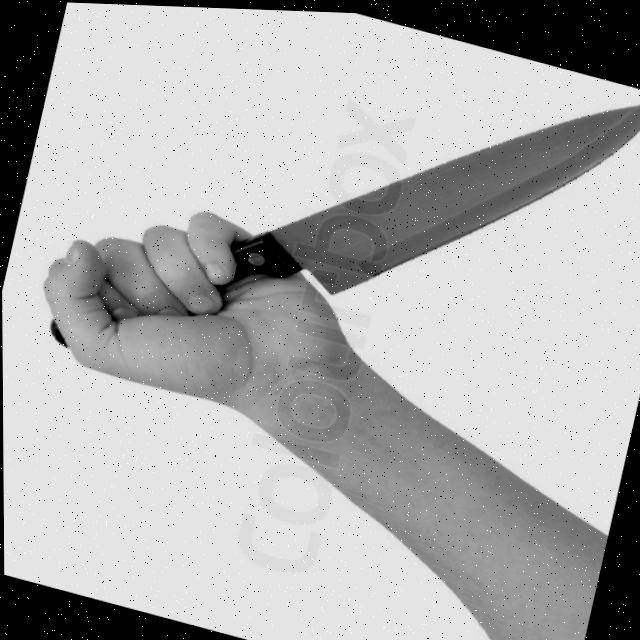knife: (229, 7, 640, 364)
